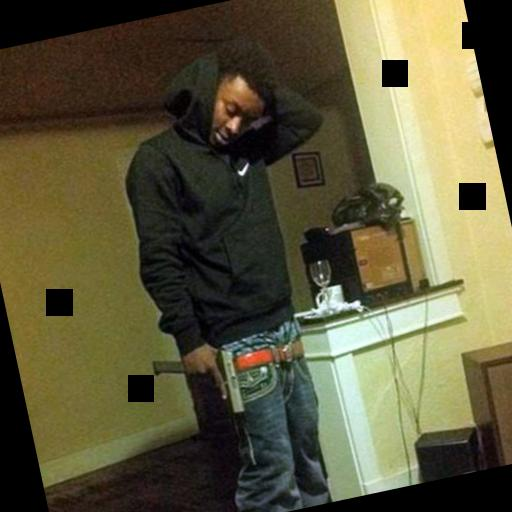Handgun: (146, 338, 244, 432)
